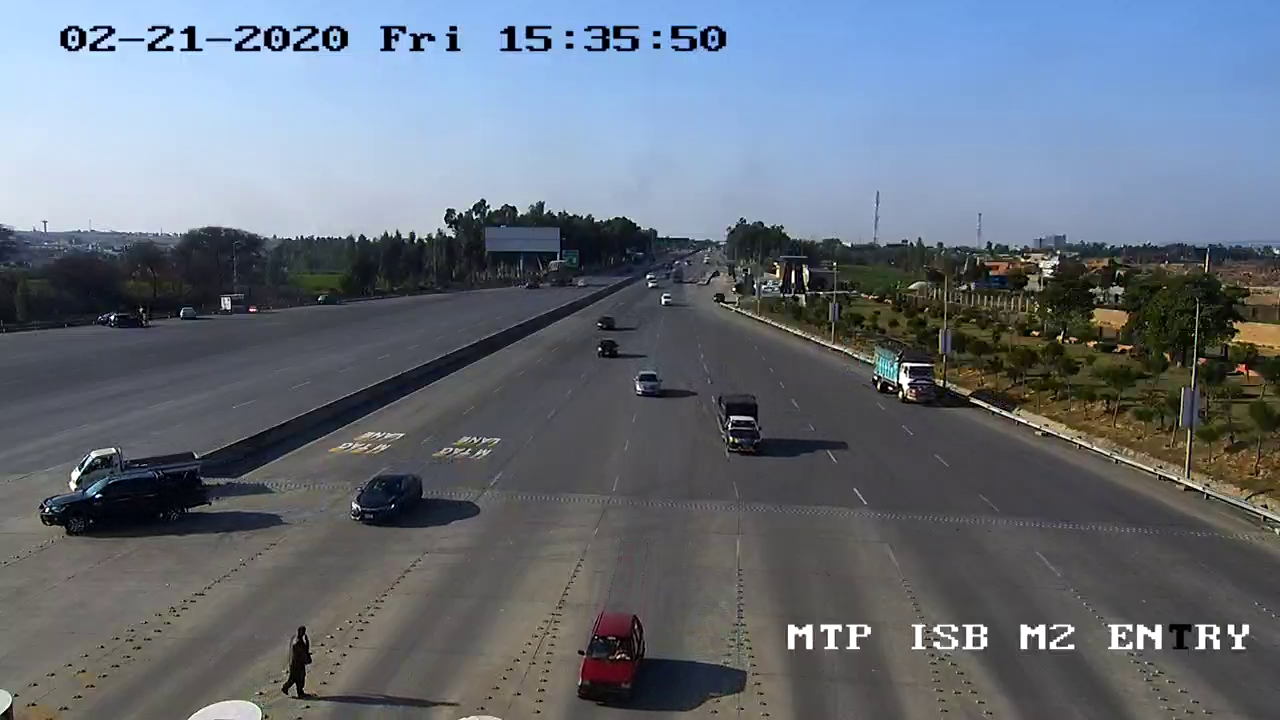f1: (563, 604, 662, 706), (339, 466, 434, 534), (628, 363, 668, 411)
f2: (703, 386, 783, 475)
f5: (863, 326, 949, 421)
